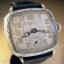watch: (3, 5, 62, 58)
